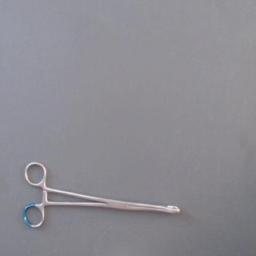Sponge Forceps: (18, 156, 188, 234)
